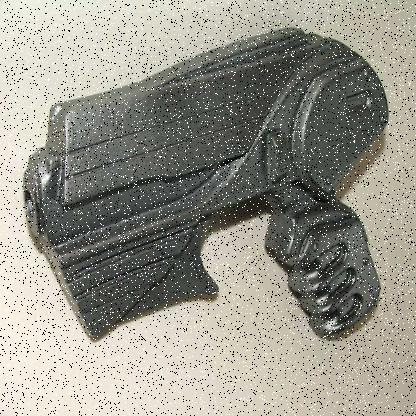pistol: (21, 24, 390, 345)
